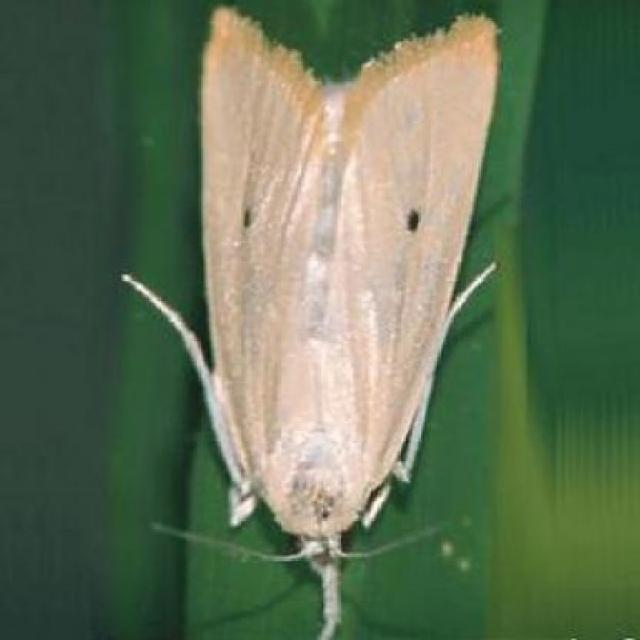stem-borer: (116, 3, 504, 640)
